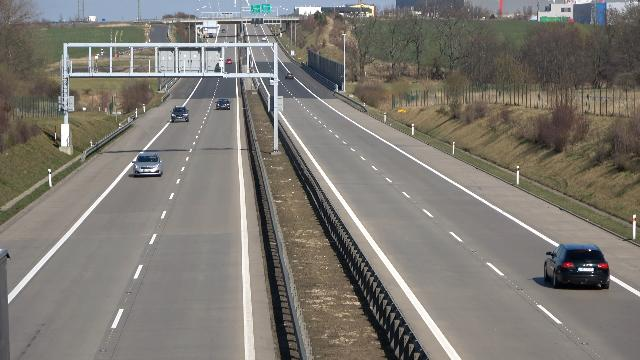car: (543, 242, 614, 290), (132, 153, 163, 178), (171, 106, 190, 123), (213, 99, 230, 110), (285, 73, 295, 80), (225, 57, 235, 63), (261, 36, 268, 42)
van: (268, 76, 279, 86)
